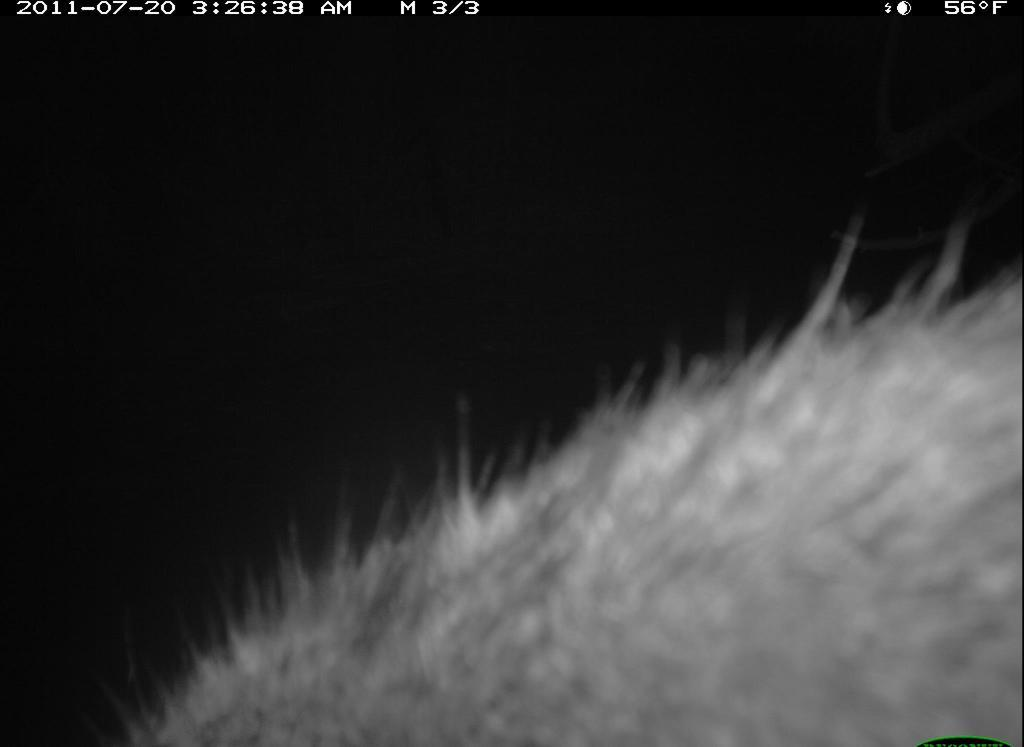raccoon: (82, 210, 1022, 743)
